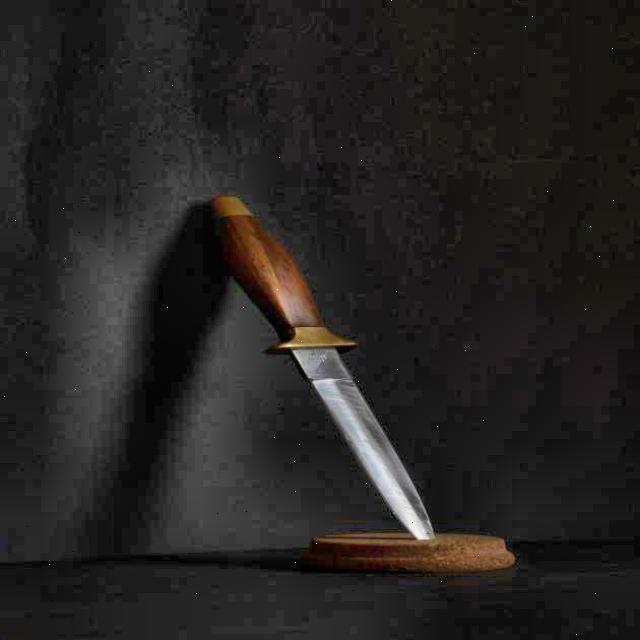knife: (214, 191, 456, 547)
